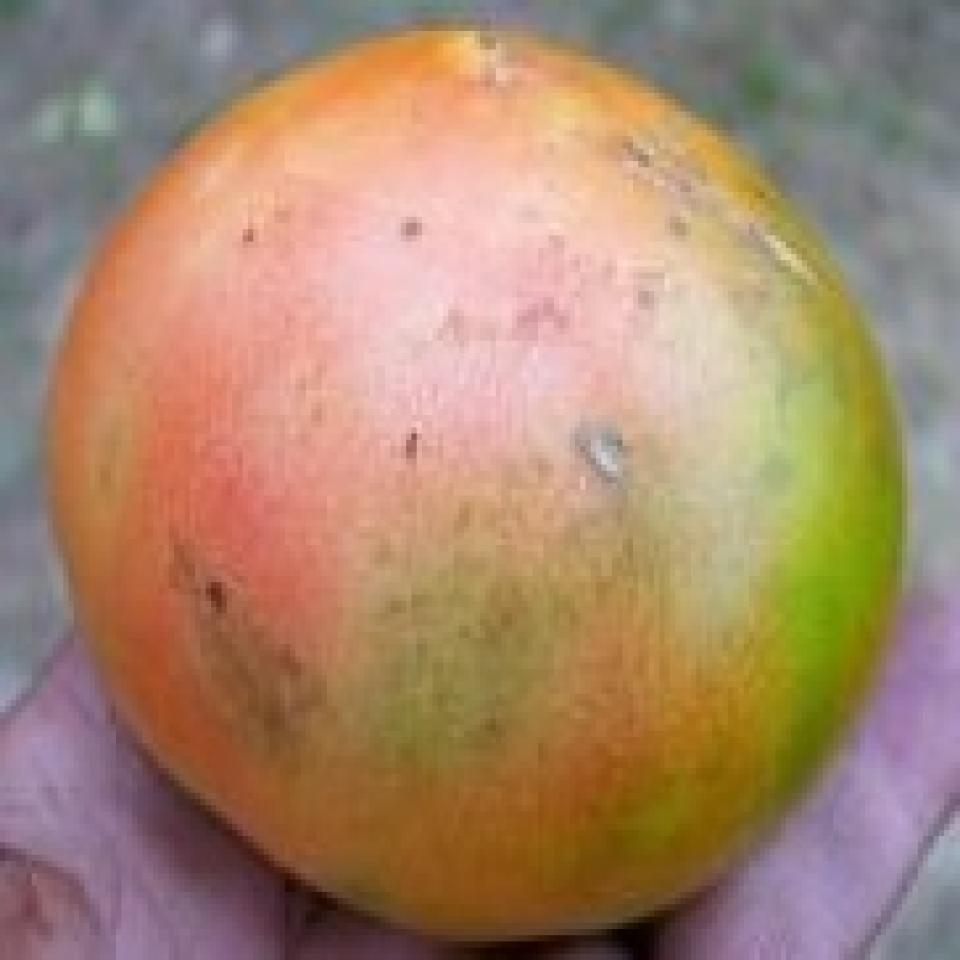Spotted wilt Virus: (45, 16, 910, 947)
